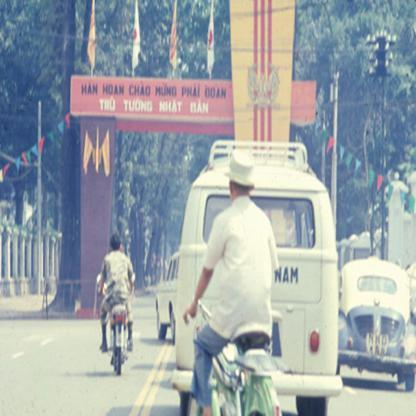motorcycle: (92, 272, 139, 369)
